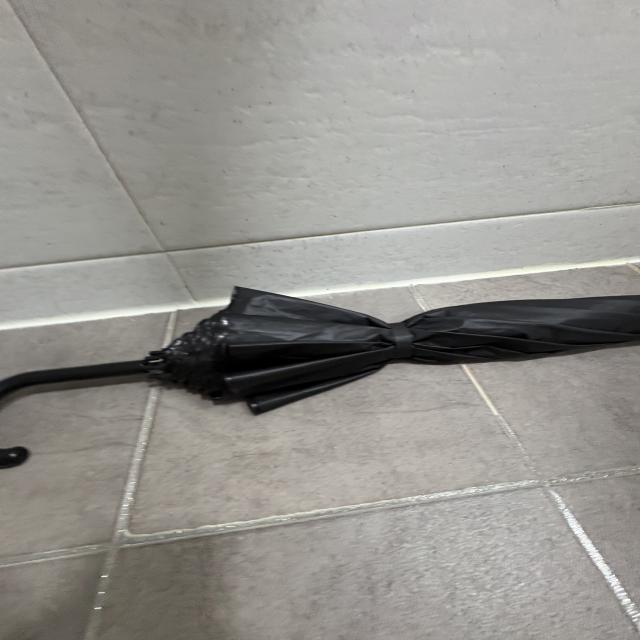umbrella: (0, 287, 640, 468)
